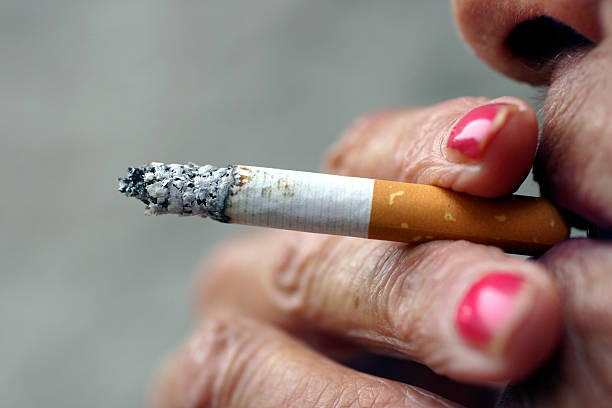cigarette: (116, 160, 571, 250)
